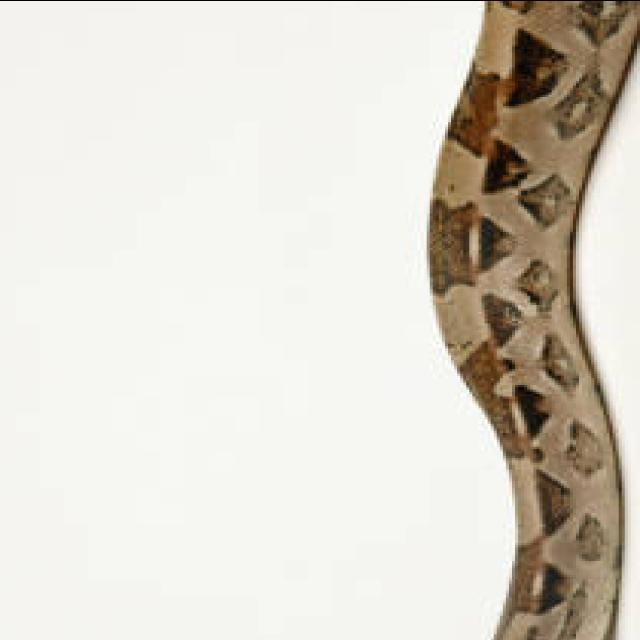Snake: (342, 0, 640, 640)
